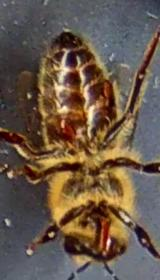varroa_mite: (48, 110, 82, 150)
